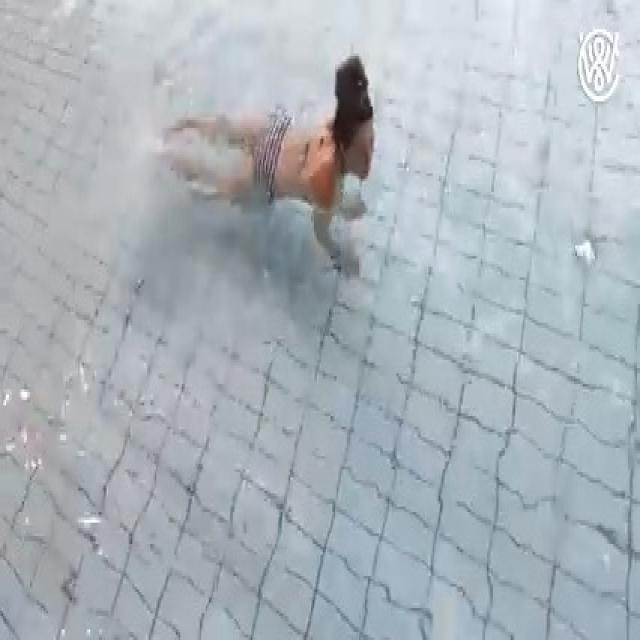Swimming: (163, 54, 379, 278)
